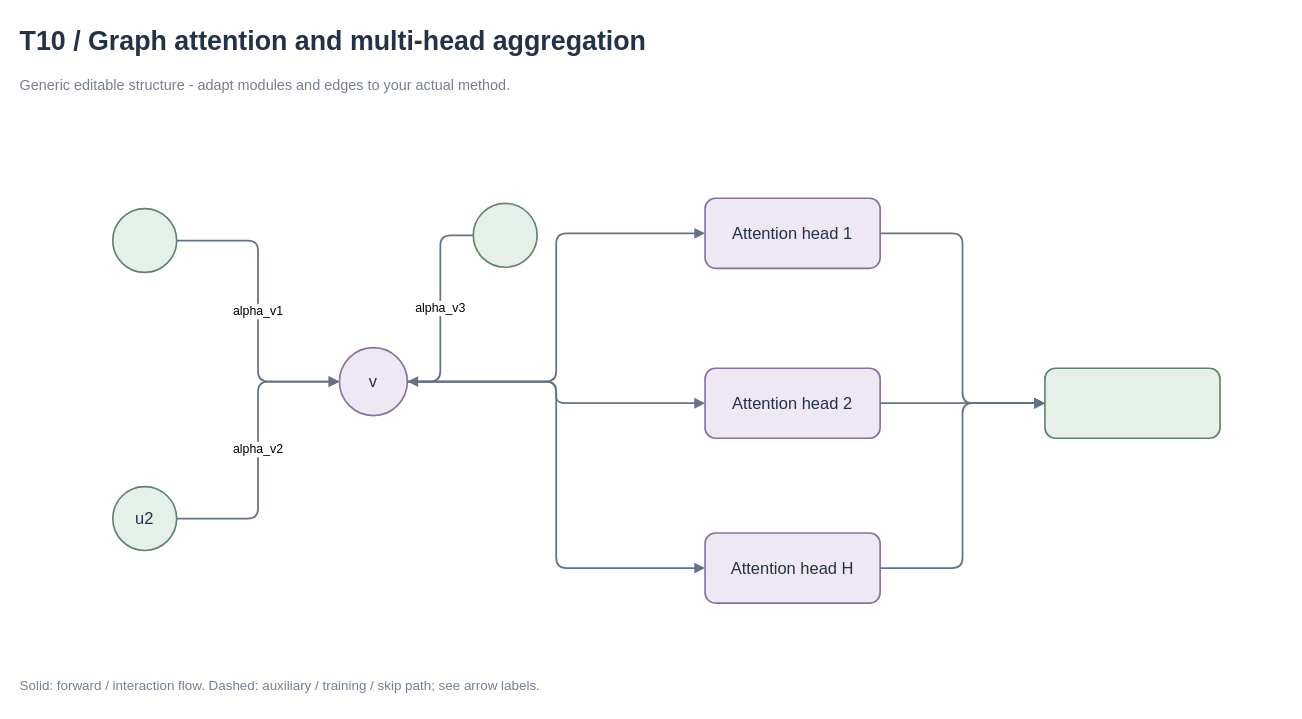
Some shapes in this 1302 by 719 pixel diagram are drawn without their labels. The shapes that lost their labels are listed below. From the top down, each one's box as (x1, y1, x2, y2) in pixels, then its label:
(111, 207, 177, 273): u1
(472, 202, 537, 268): u3
(1044, 367, 1220, 439): Concat / average Node output
